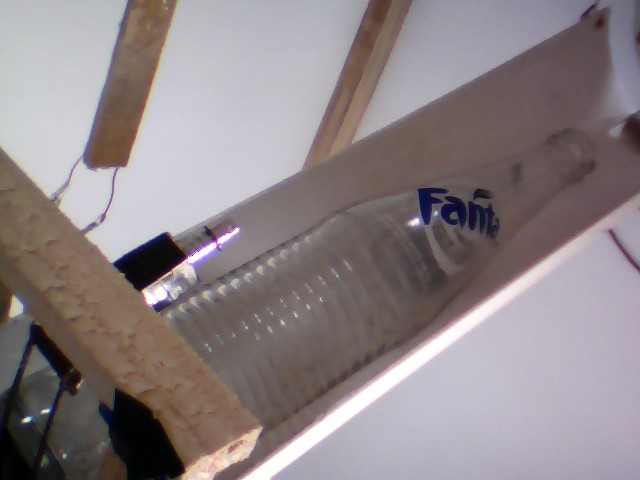vidrio: (202, 123, 604, 436)
